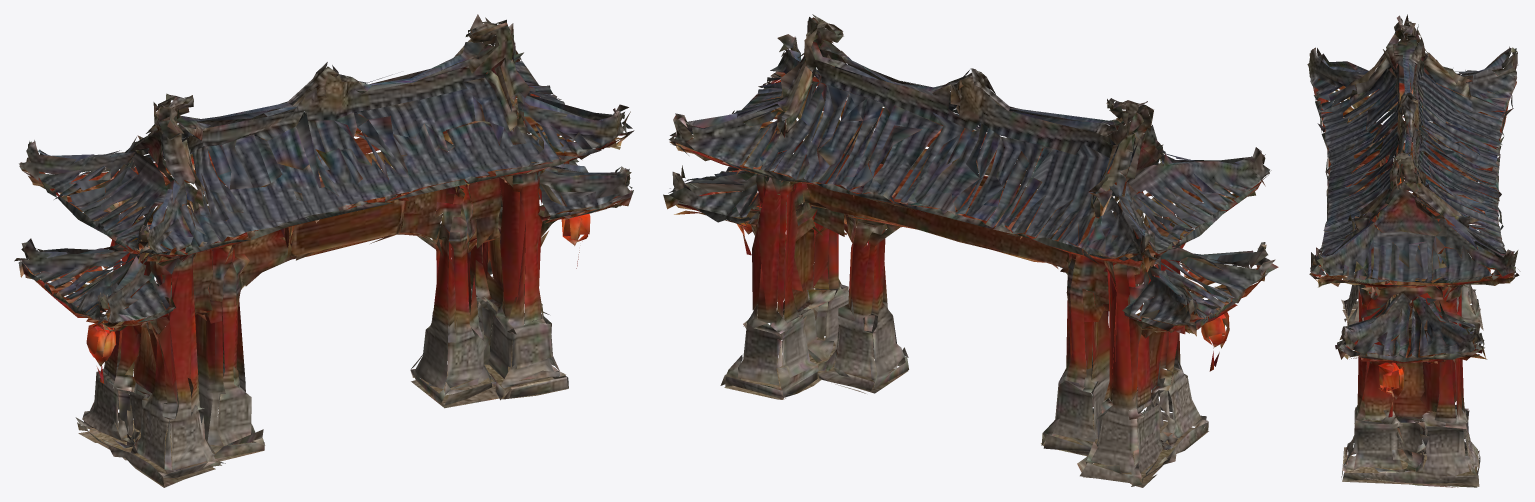
The model's file is portao_lod1.glb.
The picture shows the model from 3 angles, left to right: view 1: azimuth 30°, elevation 25°; view 2: azimuth 150°, elevation 25°; view 3: azimuth 270°, elevation 25°; orthographic projection. The views are drawn at different scales.
Parts seen in each view (by area): view 1: portao; view 2: portao; view 3: portao.
Boxes of the visible parts, x1,y1,x2,y2 form: portao: [14, 14, 634, 487]; portao: [663, 14, 1278, 487]; portao: [1307, 14, 1520, 487].
Size of the model in its own units: 9.64 by 6.07 by 3.76.
Materials: 1 (1 with a texture image).
